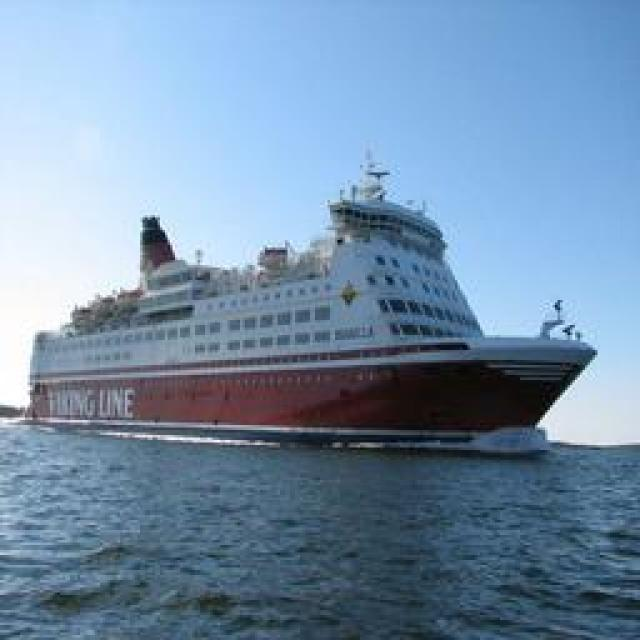ship2: (23, 150, 598, 463)
